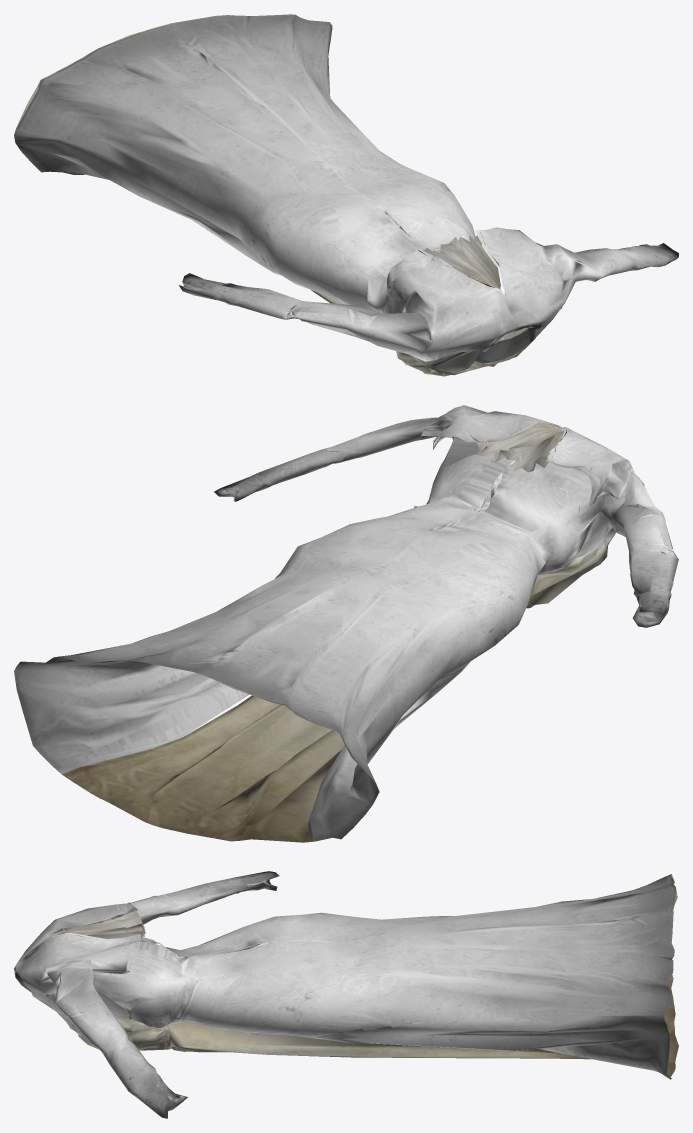
Rendered from WorldItem_DressDimitrescu.fbx.
3 renders of one model, top to bottom at view 1: azimuth 30°, elevation 25°; view 2: azimuth 150°, elevation 25°; view 3: azimuth 270°, elevation 25°, orthographic. The views are drawn at different scales.
Visible parts, largest first — view 1: LadyDDress; view 2: LadyDDress; view 3: LadyDDress.
Part boxes in pixels (x1=…): LadyDDress: x1=14, y1=14, x2=678, y2=376; LadyDDress: x1=14, y1=405, x2=678, y2=842; LadyDDress: x1=14, y1=871, x2=678, y2=1118.
Size of the model in its own units: 0.6524 by 0.1982 by 0.8787.
